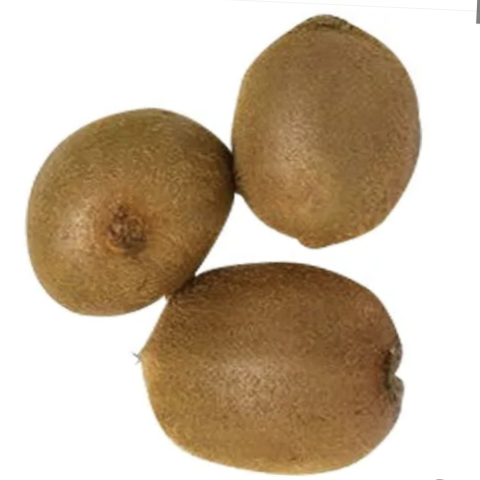kiwi: (113, 245, 435, 480), (4, 79, 258, 339), (227, 11, 451, 267)
